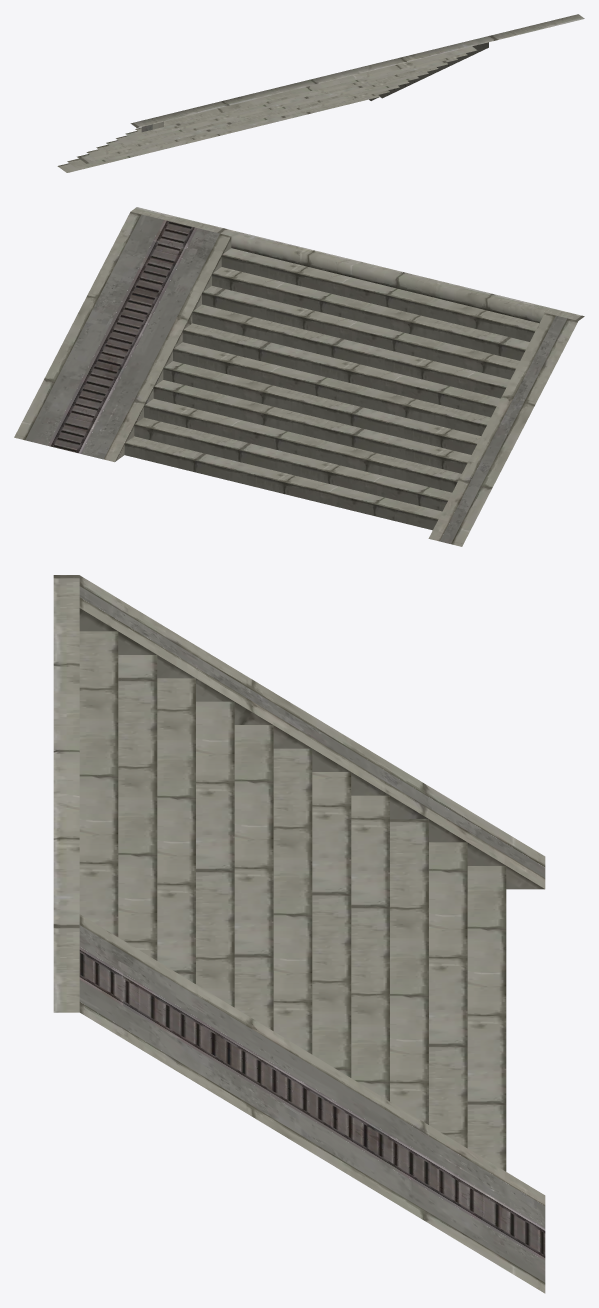
3 views of the same model, one above another, from view 1: azimuth 30°, elevation 25°; view 2: azimuth 150°, elevation 25°; view 3: azimuth 270°, elevation 25° (orthographic). The views are drawn at different scales.
Visible parts, largest first — view 1: body0_model0_lod0_mesh0; view 2: body0_model0_lod0_mesh0, body0_model0_lod0_mesh1, body0_model0_lod0_mesh3, body0_model0_lod0_mesh2; view 3: body0_model0_lod0_mesh0, body0_model0_lod0_mesh1, body0_model0_lod0_mesh3, body0_model0_lod0_mesh2.
Boxes of the visible parts, x1,y1,x2,y2 form: body0_model0_lod0_mesh0: (57,14,584,172); body0_model0_lod0_mesh0: (14,207,584,546); body0_model0_lod0_mesh1: (25,214,566,543); body0_model0_lod0_mesh3: (53,221,191,452); body0_model0_lod0_mesh2: (47,220,197,453); body0_model0_lod0_mesh0: (53,575,545,1293); body0_model0_lod0_mesh1: (79,586,545,1282); body0_model0_lod0_mesh3: (79,952,545,1255); body0_model0_lod0_mesh2: (79,947,545,1260).
Size of the model in its own units: 320 by 96.01 by 152.
4 materials, 4 textured.
